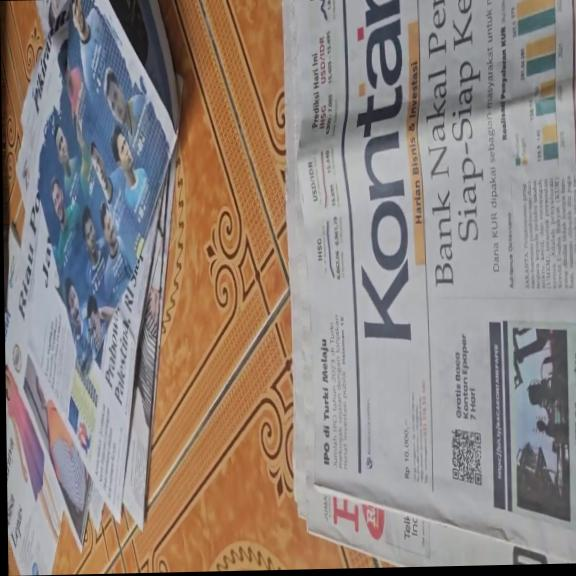Kertas: (283, 0, 575, 566)
